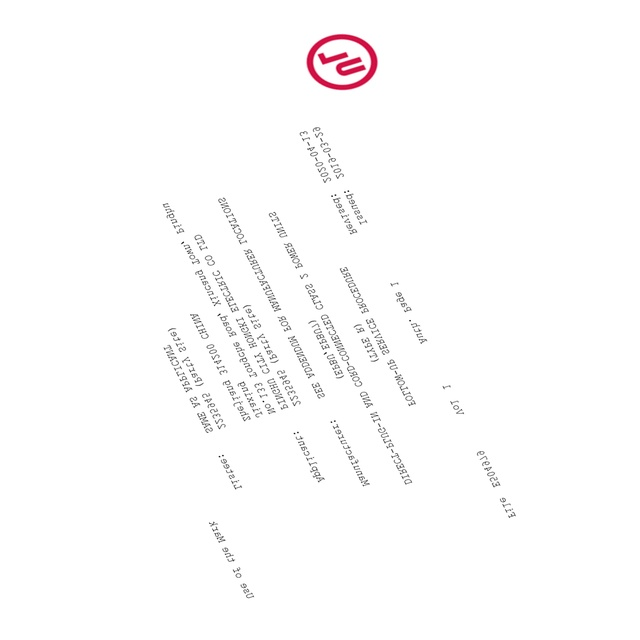ul: (308, 32, 378, 92)
